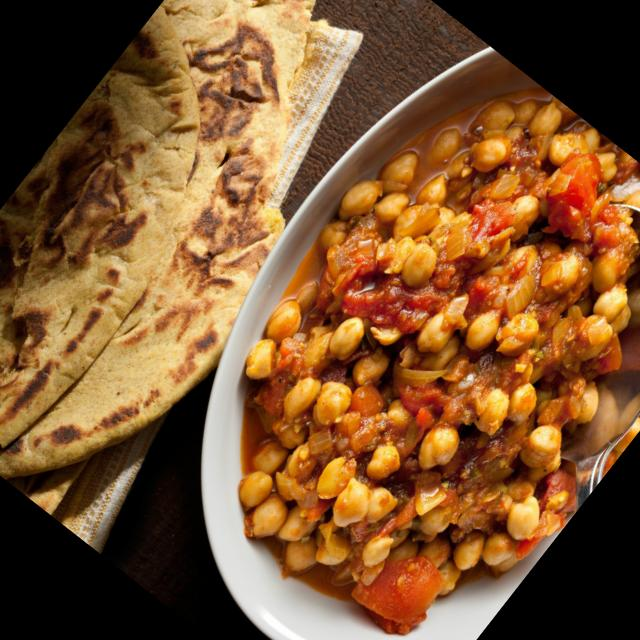Chole: (139, 33, 640, 640)
